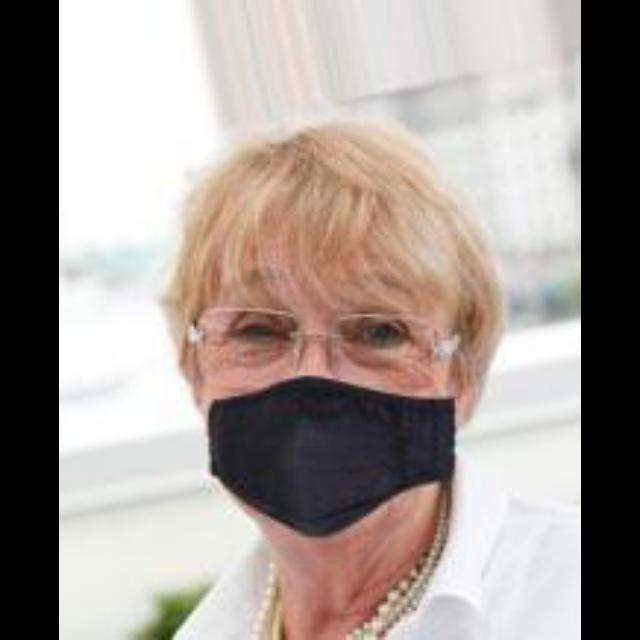suspicion: (178, 179, 478, 531)
